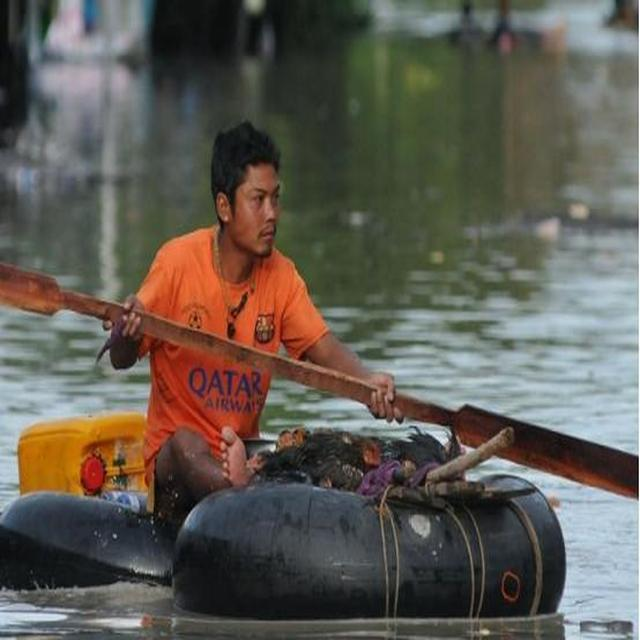Person-RiskLevel3: (95, 116, 412, 493)
